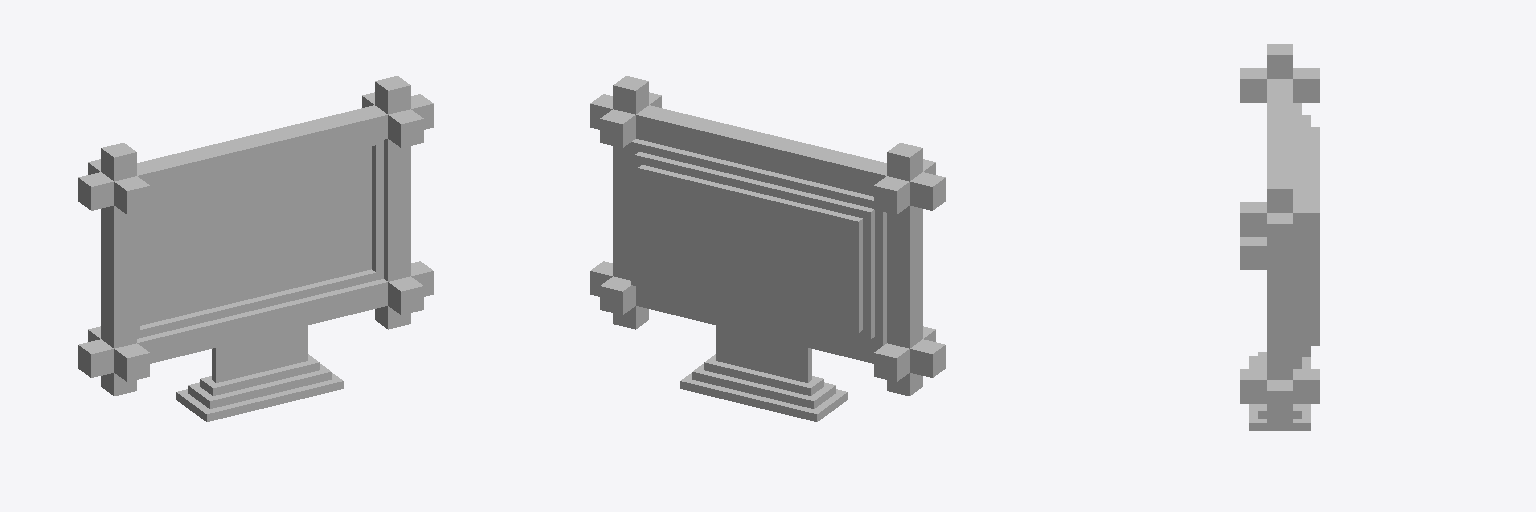
File: Game_monitor1.obj
3 renders of one model, left to right at view 1: azimuth 30°, elevation 25°; view 2: azimuth 150°, elevation 25°; view 3: azimuth 270°, elevation 25°, orthographic.
Parts seen in each view (by area): view 1: monitor1; view 2: monitor1; view 3: monitor1.
Part boxes in pixels (left/top/right/bottom): monitor1: left=78, top=76, right=433, bottom=421; monitor1: left=590, top=76, right=945, bottom=421; monitor1: left=1240, top=44, right=1319, bottom=430.
Bounding box in the file's own units: 4.5 × 3.5 × 0.9.